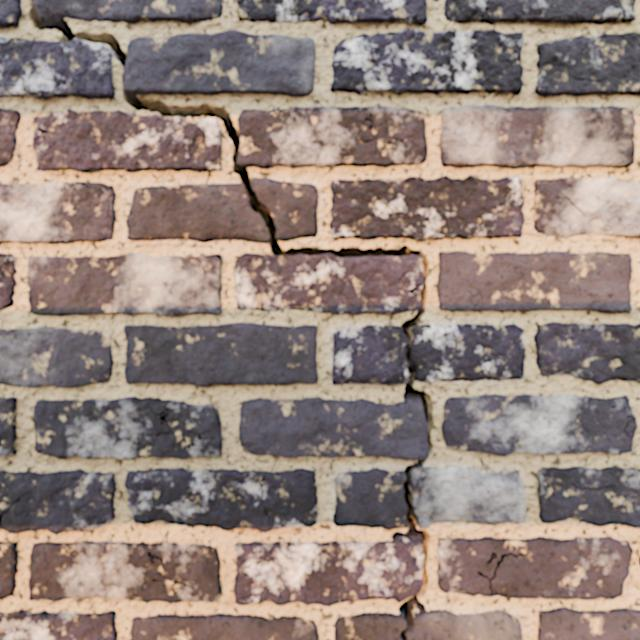broken_brick: (126, 183, 269, 243), (413, 466, 526, 528), (412, 324, 525, 382), (332, 325, 410, 384), (333, 468, 407, 529), (250, 177, 318, 240), (407, 609, 522, 639), (334, 612, 405, 639)
crack: (0, 0, 434, 639), (330, 29, 523, 95), (329, 175, 524, 240), (124, 322, 318, 386), (436, 536, 633, 599), (124, 468, 317, 532), (439, 105, 635, 168), (27, 253, 222, 316), (28, 540, 221, 603), (441, 394, 637, 456), (437, 251, 632, 313), (33, 396, 222, 459), (0, 469, 116, 534), (0, 181, 115, 243), (0, 327, 113, 387), (534, 32, 639, 96), (534, 322, 639, 384), (533, 177, 639, 238), (538, 466, 639, 528), (131, 613, 318, 639), (237, 0, 427, 25), (444, 0, 636, 24), (0, 610, 117, 639), (538, 607, 639, 639), (0, 108, 20, 167), (0, 541, 17, 599), (0, 397, 16, 457), (0, 254, 17, 309), (0, 0, 22, 28), (191, 184, 203, 185)
